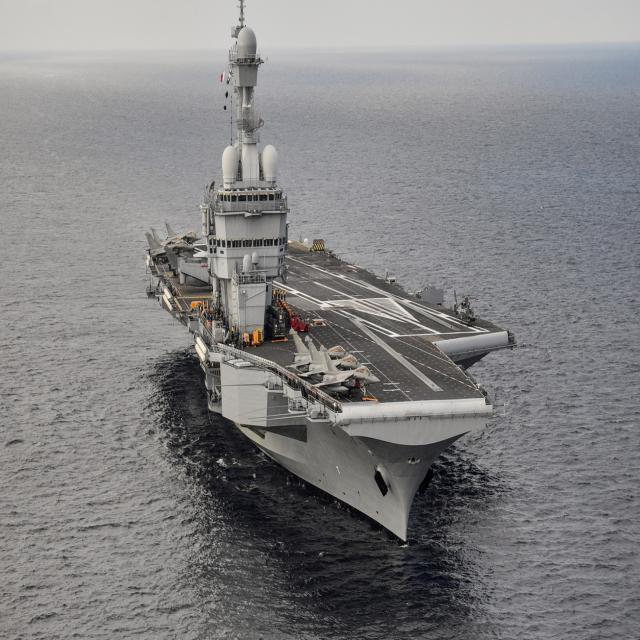Portanaves: (141, 1, 518, 560)
